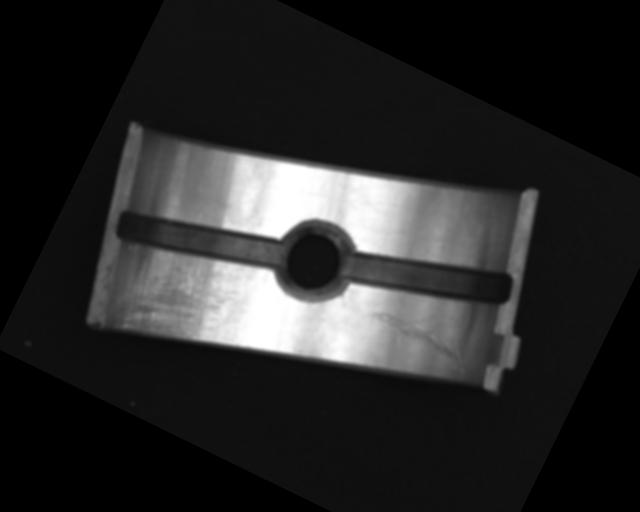gap: (337, 207, 518, 349), (109, 175, 289, 307)
hole: (265, 210, 364, 312)
nick: (362, 288, 484, 379)
scratch: (102, 231, 243, 371)
